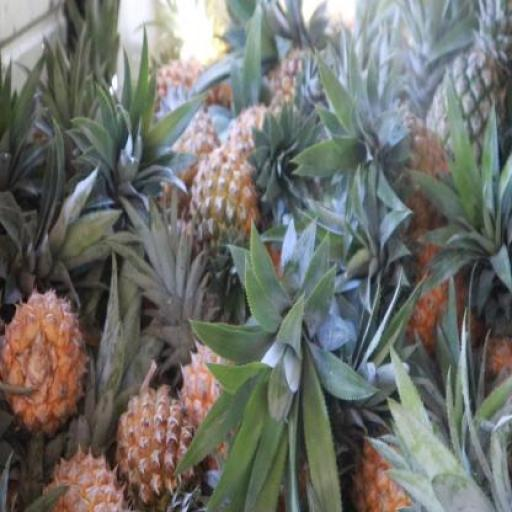------------------------------: (188, 150, 255, 283)
Pineapple - v8 v1: (2, 295, 82, 429), (117, 388, 193, 512)
